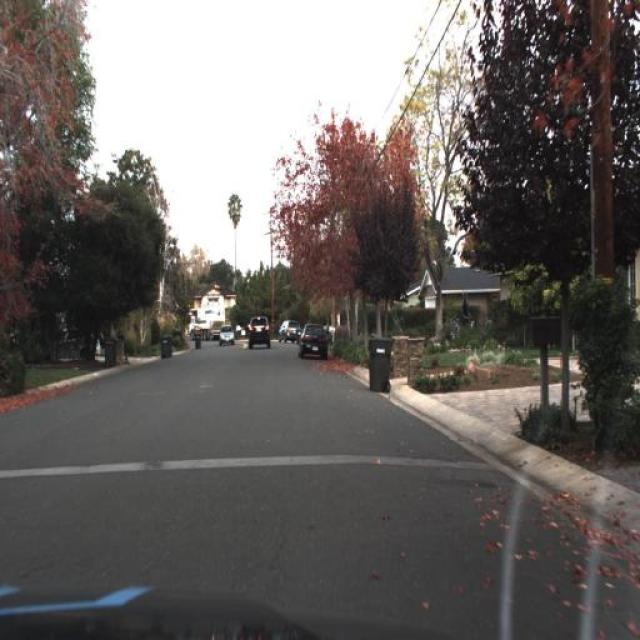car: (243, 313, 273, 352), (295, 322, 327, 358), (280, 319, 300, 343), (218, 324, 234, 346)
